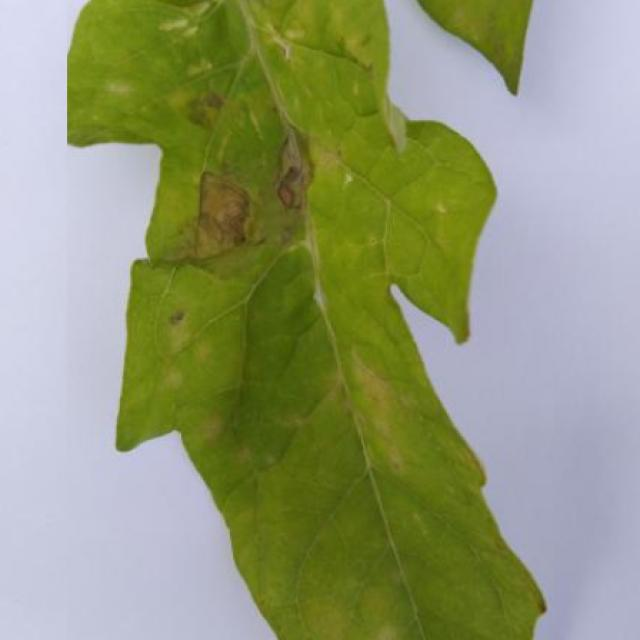Early Blight: (67, 0, 554, 640)
